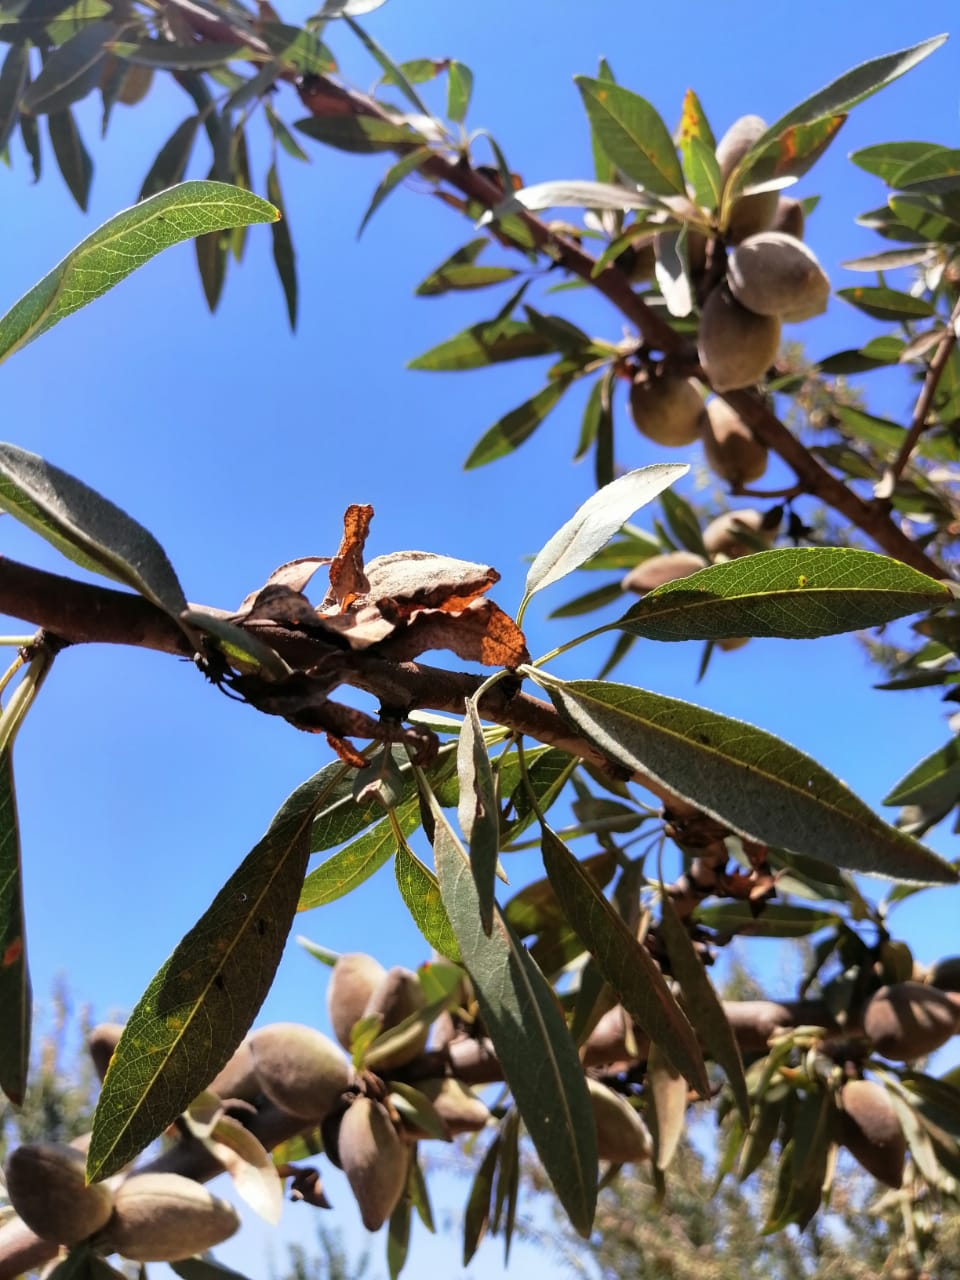scolytes: (233, 500, 536, 761)
